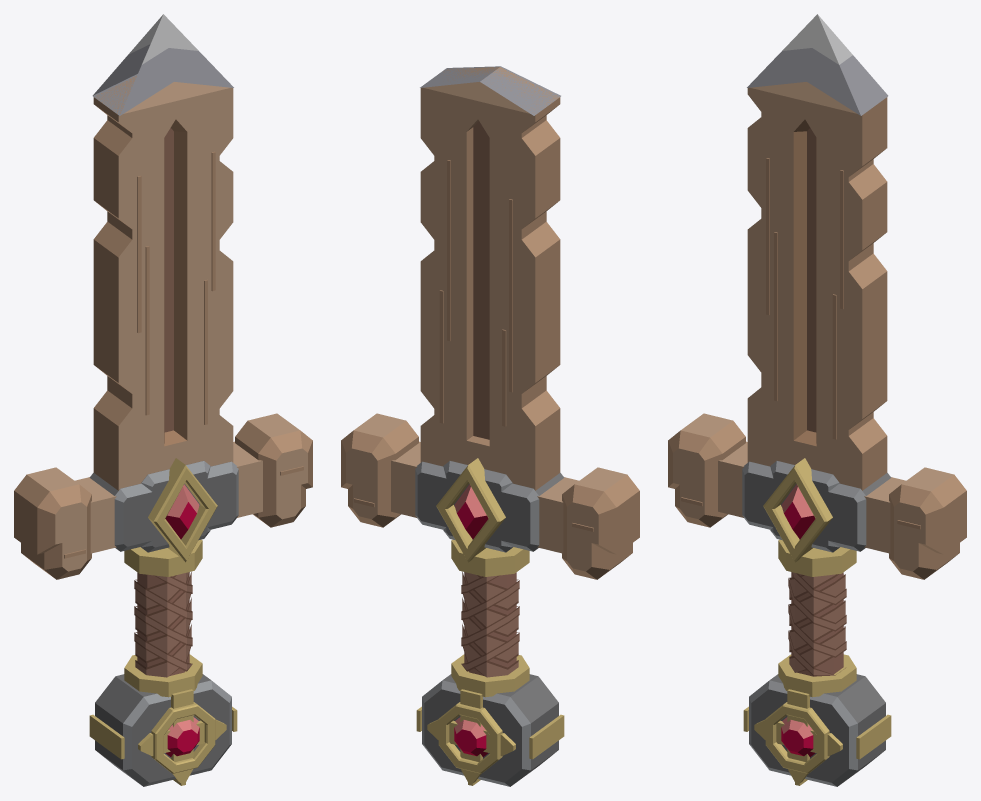
The model's file is timber_blade_roblox.glb.
3 views of the same model, side by side, from view 1: azimuth 30°, elevation 25°; view 2: azimuth 150°, elevation 25°; view 3: azimuth 330°, elevation 25° (orthographic).
Parts seen in each view (by area): view 1: Blade, Guard, Grip, Gems; view 2: Blade, Guard, Grip, Gems; view 3: Blade, Guard, Grip, Gems.
Part boxes in pixels (box(x1,y1,x2,y2)): Blade: box(92, 14, 233, 490); Guard: box(14, 413, 312, 579); Grip: box(89, 572, 237, 786); Gems: box(165, 484, 199, 757); Blade: box(420, 66, 560, 490); Guard: box(341, 413, 639, 579); Grip: box(416, 572, 564, 786); Gems: box(454, 484, 488, 757); Blade: box(747, 14, 888, 490); Guard: box(668, 413, 966, 579); Grip: box(743, 572, 891, 786); Gems: box(781, 484, 815, 757).
Bounding box in the file's own units: 0.48 × 1.26 × 0.15.
